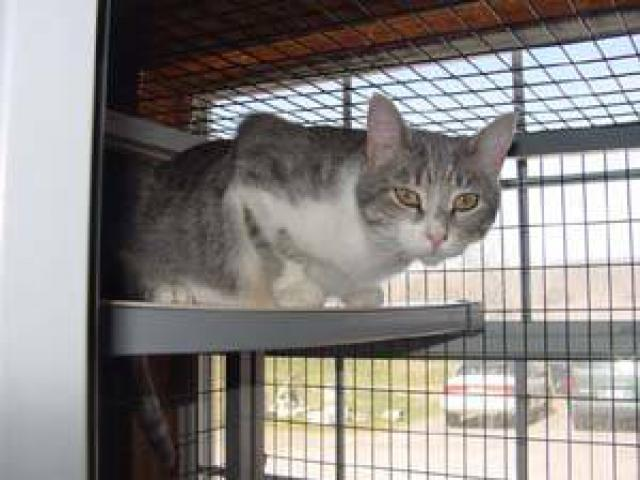cat: (114, 87, 531, 343)
